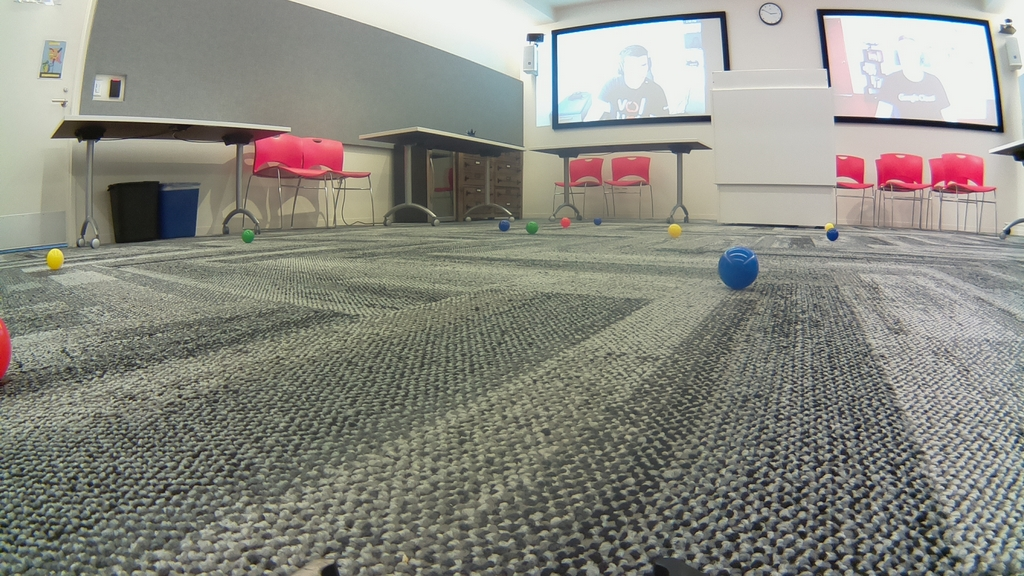ball: (1, 315, 11, 373)
